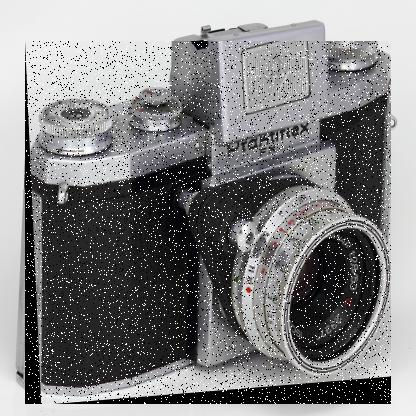Camera: (26, 42, 393, 406)
